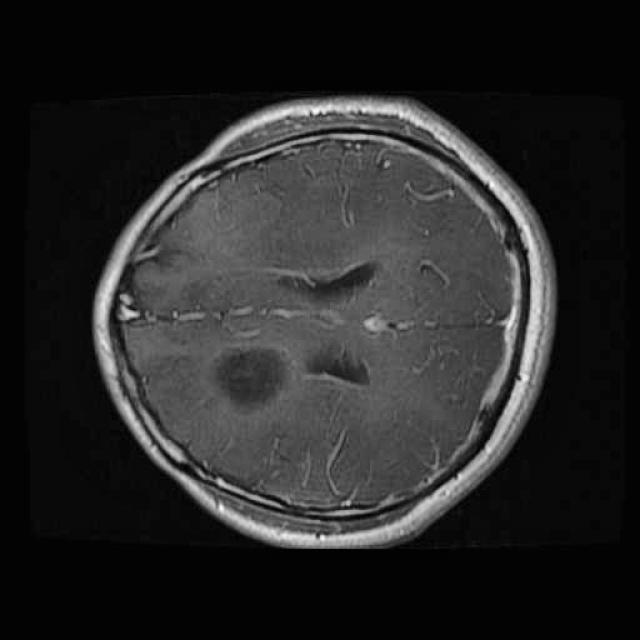Tumor: (207, 335, 295, 420)
